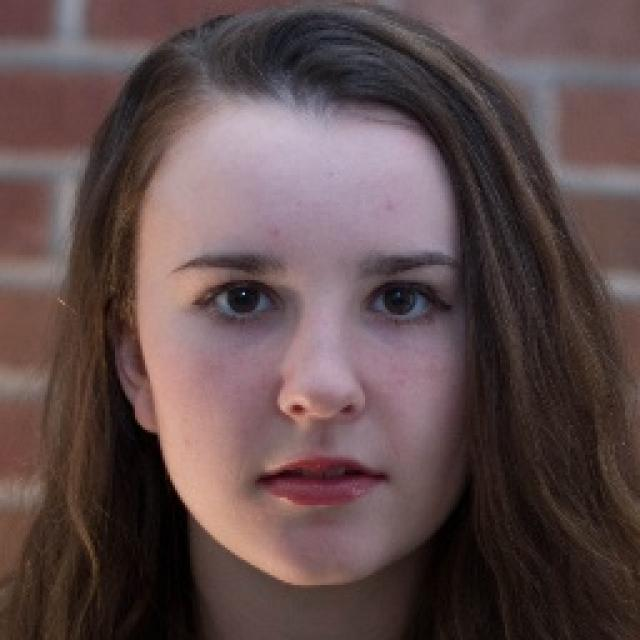earlobe: (131, 401, 160, 437)
eye: (368, 282, 453, 326), (204, 278, 279, 321)
nose: (282, 412, 361, 448)
wholeear: (108, 306, 158, 434)
